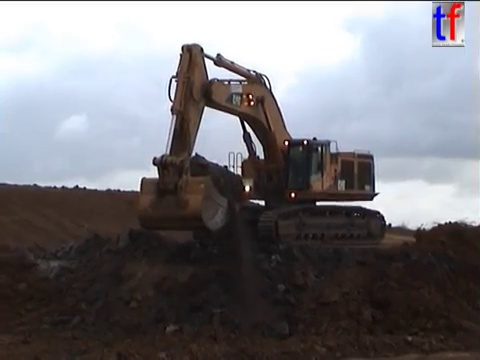excavator: (134, 40, 389, 251)
